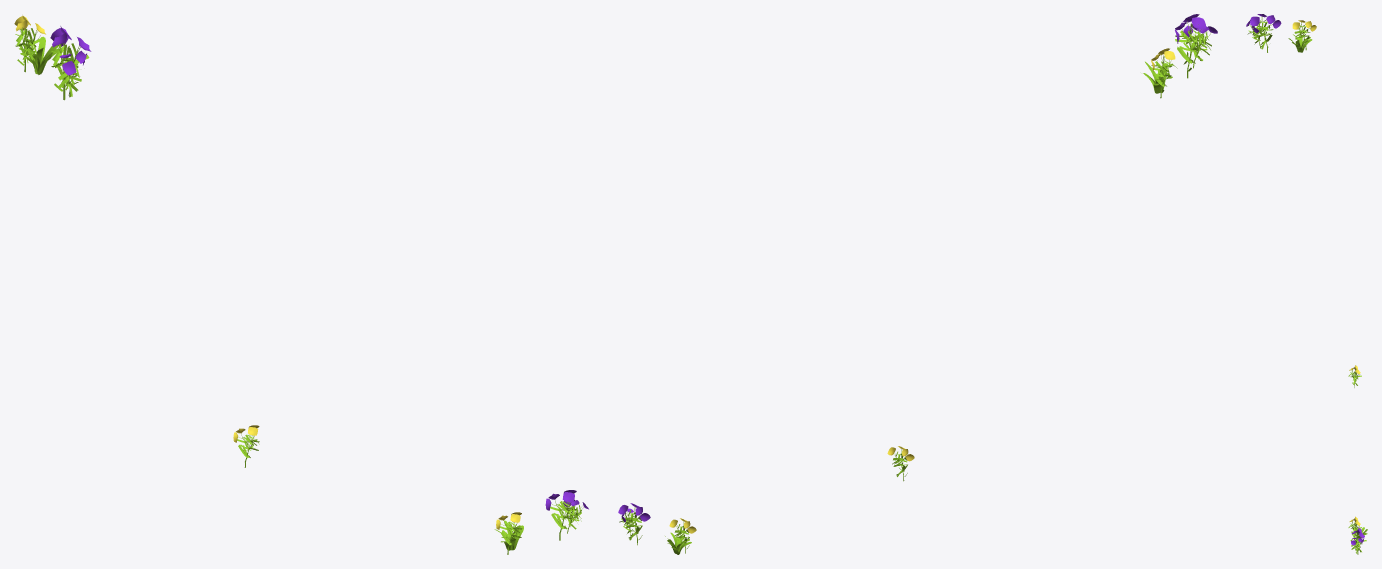
The model's file is SM_Flowers.fbx.
The picture shows the model from 3 angles, left to right: view 1: azimuth 30°, elevation 25°; view 2: azimuth 150°, elevation 25°; view 3: azimuth 270°, elevation 25°; orthographic projection. The views are drawn at different scales.
Parts seen in each view (by area): view 1: Flower 1.001; view 2: Flower 1.001; view 3: Flower 1.001.
Boxes of the visible parts, <box> form: Flower 1.001: <box>14,15,588,554</box>; Flower 1.001: <box>618,14,1217,554</box>; Flower 1.001: <box>1246,14,1367,554</box>.
Size of the model in its own units: 288 by 89.93 by 316.
